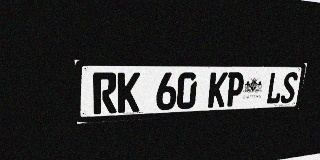0: (176, 72, 198, 110)
6: (156, 72, 178, 111)
K: (117, 72, 140, 113), (207, 72, 228, 108)
L: (265, 72, 285, 104)
P: (225, 72, 245, 107)
R: (93, 72, 117, 114)
S: (280, 72, 299, 104)
